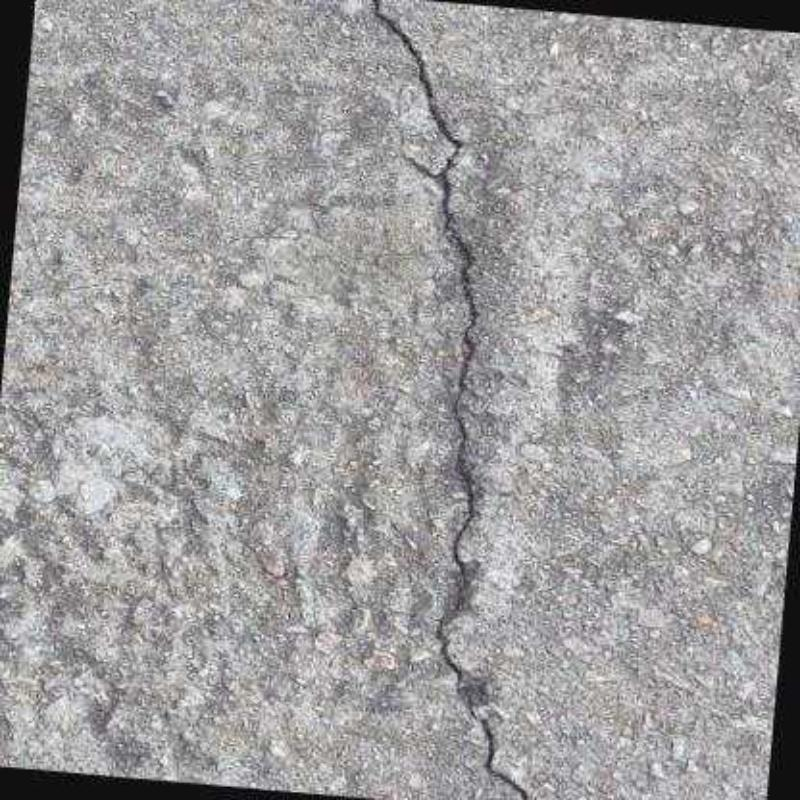pothole: (365, 0, 534, 800)
